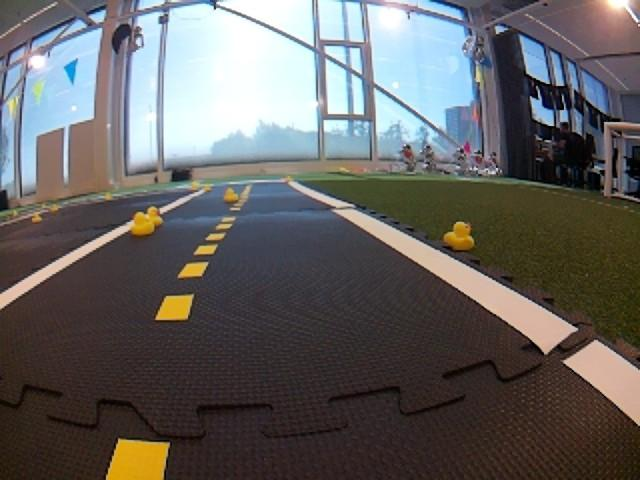Duckies: (442, 222, 474, 251), (130, 214, 159, 235), (142, 209, 164, 226), (225, 191, 239, 202), (191, 179, 200, 190), (31, 215, 41, 223), (11, 210, 19, 218), (203, 185, 212, 191), (50, 205, 57, 211), (105, 195, 112, 200), (286, 176, 292, 181), (42, 203, 47, 207)
